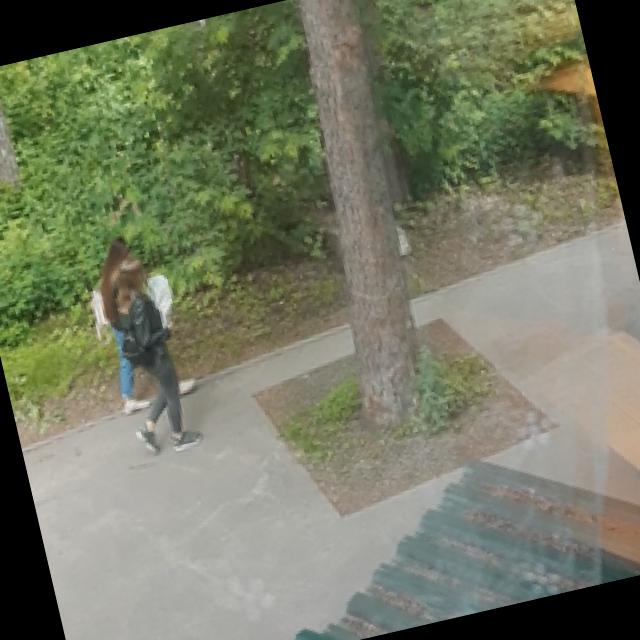person: (94, 248, 208, 462), (80, 225, 200, 418)
